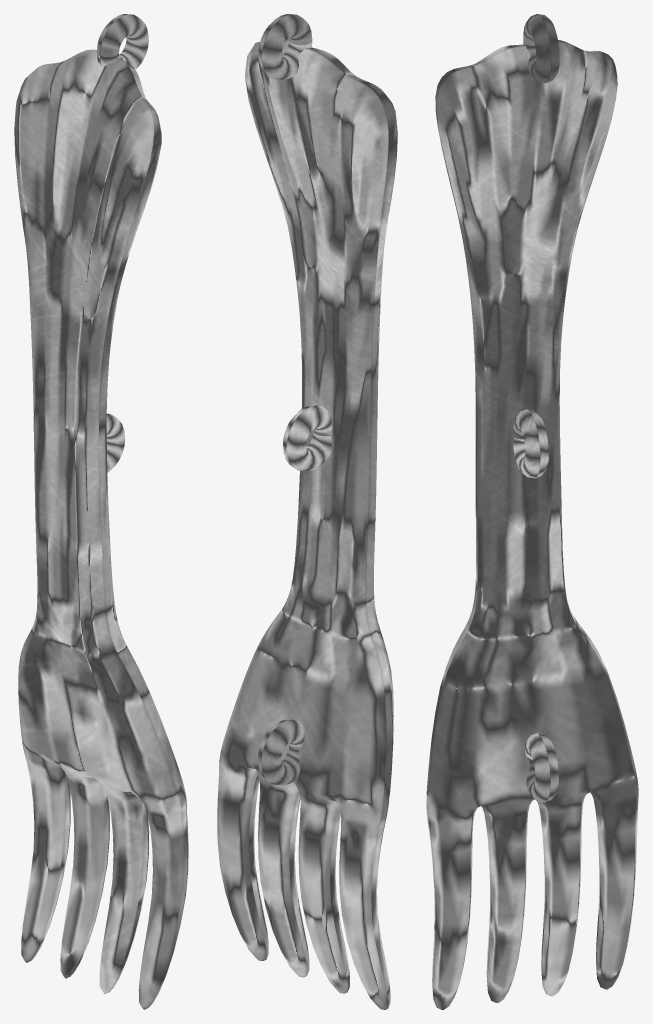
File: fork_2.obj
The picture shows the model from 3 angles, left to right: view 1: azimuth 30°, elevation 25°; view 2: azimuth 210°, elevation 25°; view 3: azimuth 270°, elevation 25°; orthographic projection. The views are drawn at different scales.
Size of the model in its own units: 0.0262 by 0.2096 by 0.0401.
1 material, 1 textured.
